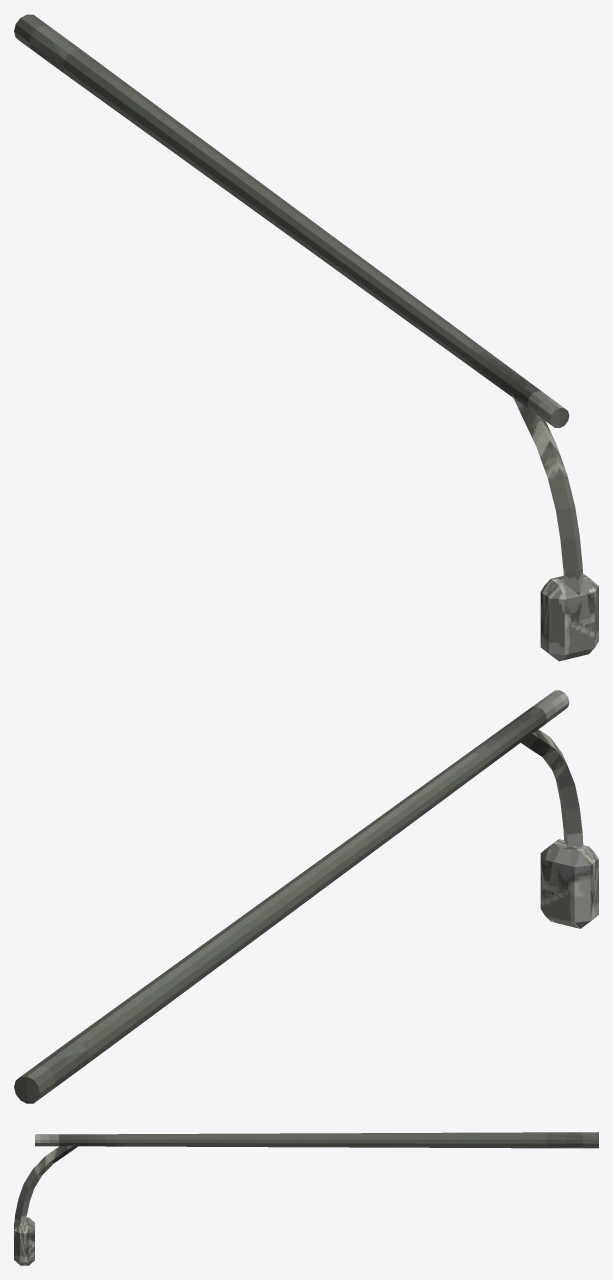
Rendered from pz_street_pole_10.obj.
3 renders of one model, top to bottom at view 1: azimuth 30°, elevation 25°; view 2: azimuth 150°, elevation 25°; view 3: azimuth 270°, elevation 25°, orthographic. The views are drawn at different scales.
Parts seen in each view (by area): view 1: pz_street_pole_10_|_tapered_native_street_pole, pz_street_pole_10_|_rounded_street_lamp_head, pz_street_pole_10_|_EDITABLE_curved_street_lamp_arm; view 2: pz_street_pole_10_|_tapered_native_street_pole, pz_street_pole_10_|_rounded_street_lamp_head, pz_street_pole_10_|_EDITABLE_curved_street_lamp_arm; view 3: pz_street_pole_10_|_tapered_native_street_pole, pz_street_pole_10_|_EDITABLE_curved_street_lamp_arm, pz_street_pole_10_|_rounded_street_lamp_head.
Boxes of the visible parts, x1,y1,x2,y2 form: pz_street_pole_10_|_tapered_native_street_pole: (14, 14, 569, 427); pz_street_pole_10_|_rounded_street_lamp_head: (540, 573, 598, 661); pz_street_pole_10_|_EDITABLE_curved_street_lamp_arm: (511, 393, 583, 594); pz_street_pole_10_|_tapered_native_street_pole: (14, 690, 569, 1103); pz_street_pole_10_|_rounded_street_lamp_head: (540, 839, 598, 928); pz_street_pole_10_|_EDITABLE_curved_street_lamp_arm: (521, 729, 583, 846); pz_street_pole_10_|_tapered_native_street_pole: (35, 1132, 598, 1148); pz_street_pole_10_|_EDITABLE_curved_street_lamp_arm: (14, 1143, 77, 1226); pz_street_pole_10_|_rounded_street_lamp_head: (14, 1217, 34, 1265).
Size of the model in its own units: 0.13 by 0.604 by 2.49.
1 material, 1 textured.
